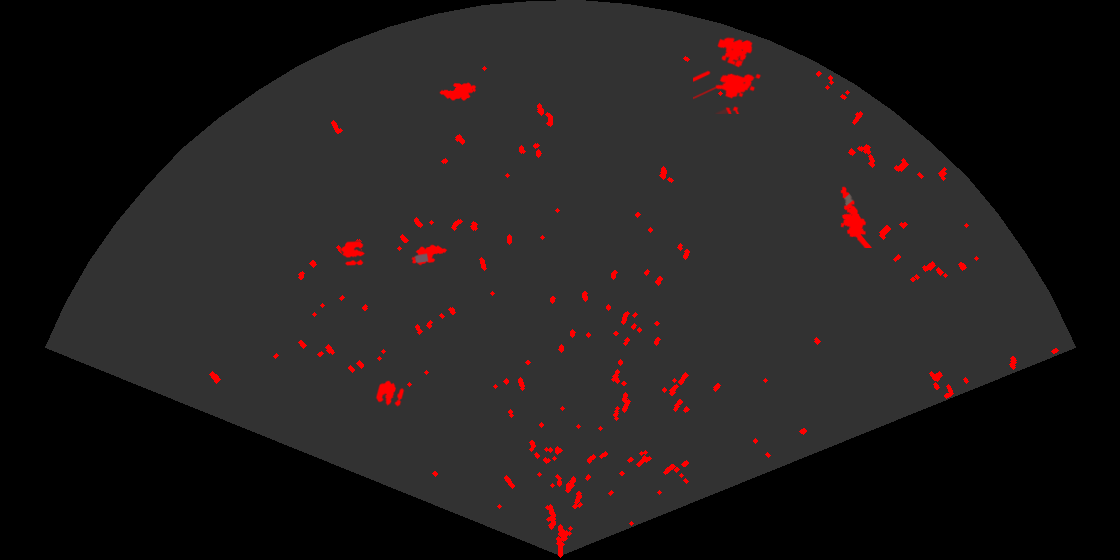AUV: (410, 243, 449, 267), (438, 81, 478, 101)
ball: (374, 379, 406, 408), (340, 240, 367, 267)
cage: (693, 35, 763, 114)
frogman: (839, 185, 873, 248)
